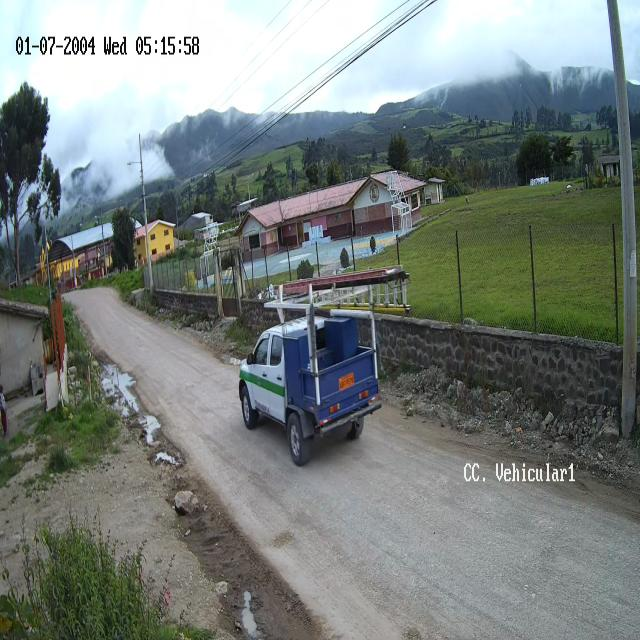CMT: (239, 308, 383, 468)
